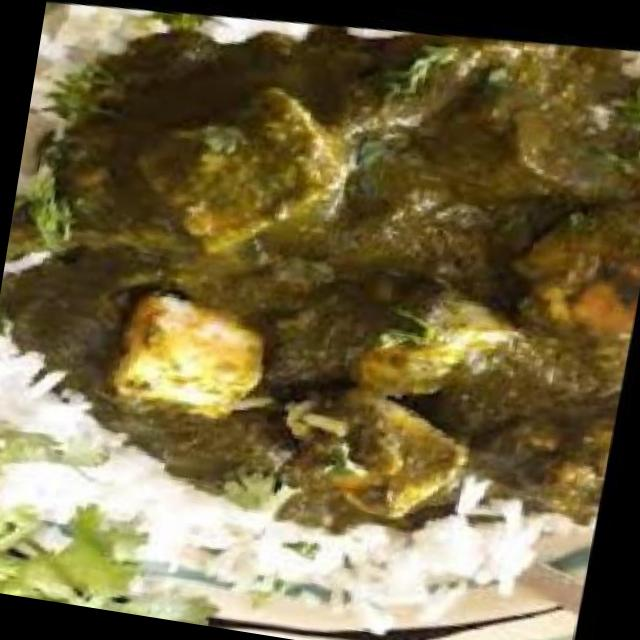palak_paneer: (0, 0, 640, 592)
